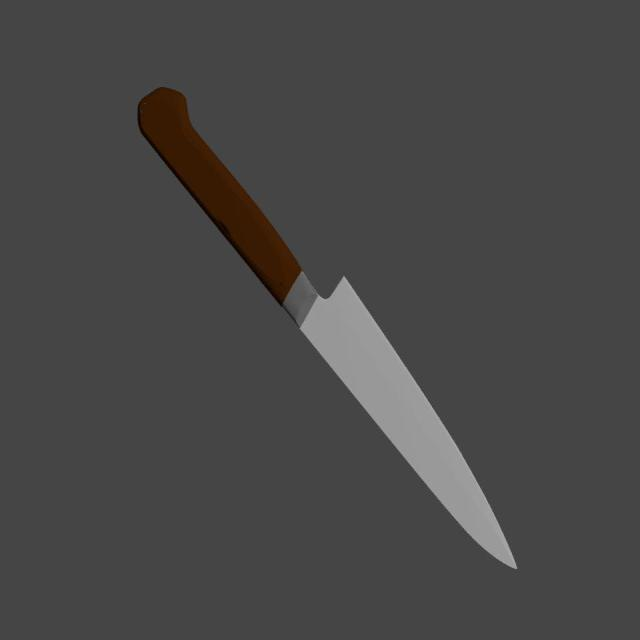knife: (137, 86, 303, 308)
